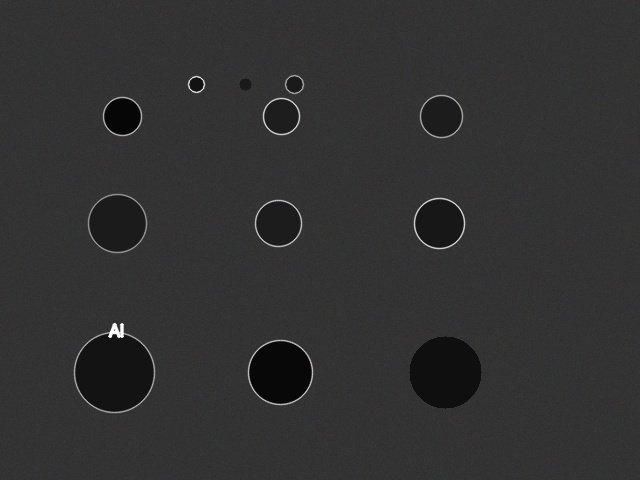hole: (74, 332, 154, 412), (409, 336, 481, 408), (248, 340, 312, 404), (88, 194, 146, 252), (414, 198, 464, 248), (255, 200, 301, 246), (420, 95, 462, 137), (103, 97, 141, 135), (263, 98, 299, 134), (285, 75, 303, 93), (188, 76, 204, 92), (239, 78, 251, 90)
